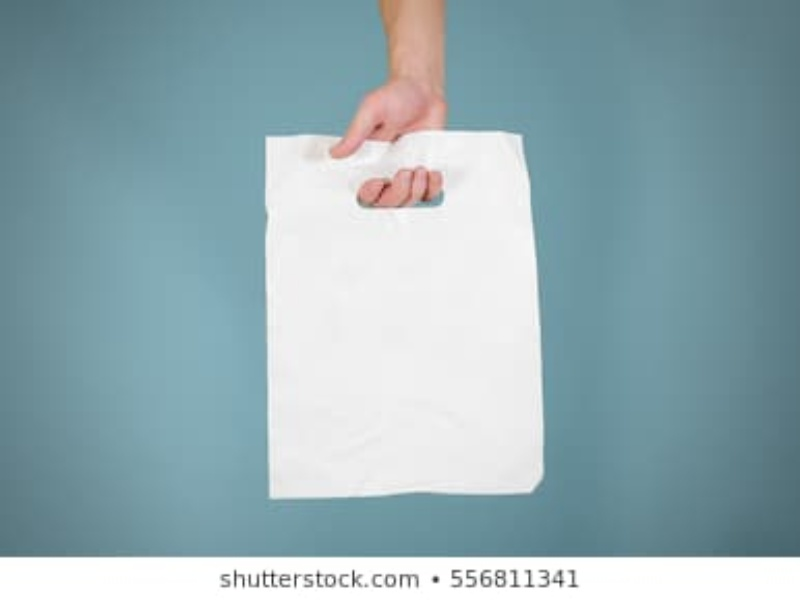plastic-bag: (255, 130, 551, 503)
